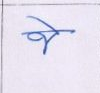e_matra: (26, 16, 58, 30)
